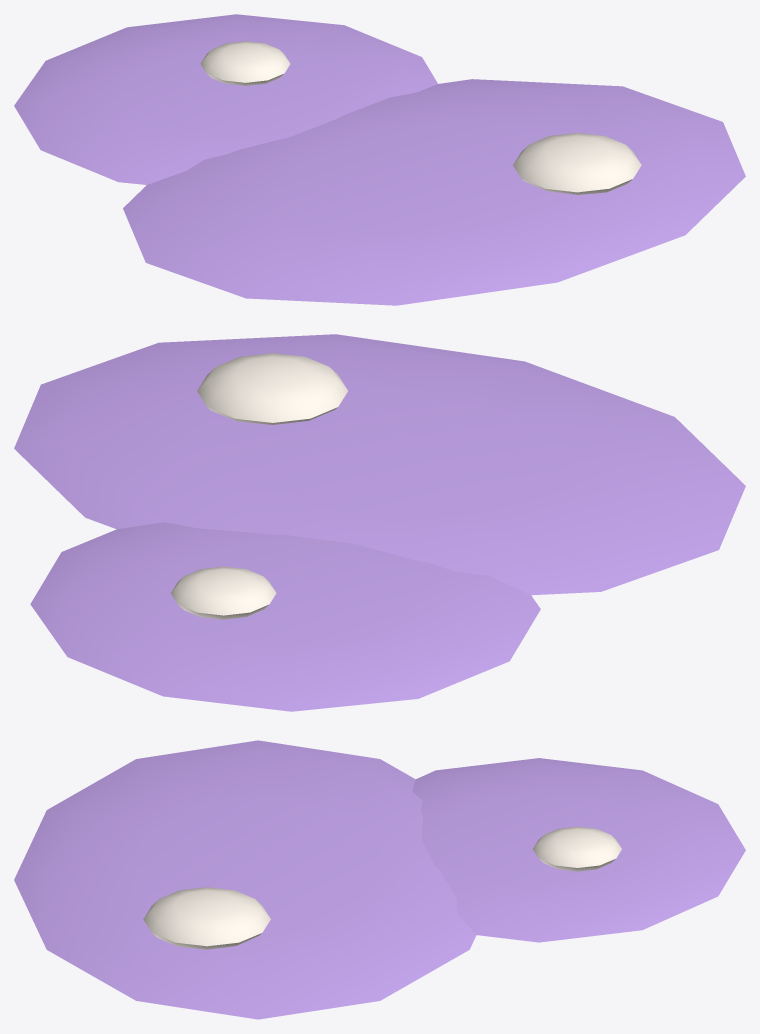
The model's file is butterfly_wing_lilac.glb.
3 renders of one model, top to bottom at view 1: azimuth 30°, elevation 25°; view 2: azimuth 150°, elevation 25°; view 3: azimuth 270°, elevation 25°, orthographic. The views are drawn at different scales.
Visible parts, largest first — view 1: butterfly_wing_lilac; view 2: butterfly_wing_lilac; view 3: butterfly_wing_lilac.
Boxes of the visible parts, x1,y1,x2,y2 form: butterfly_wing_lilac: (14, 14, 745, 305); butterfly_wing_lilac: (14, 334, 745, 711); butterfly_wing_lilac: (14, 740, 745, 1019).
Size of the model in its own units: 0.1035 by 0.0087 by 0.1147.
